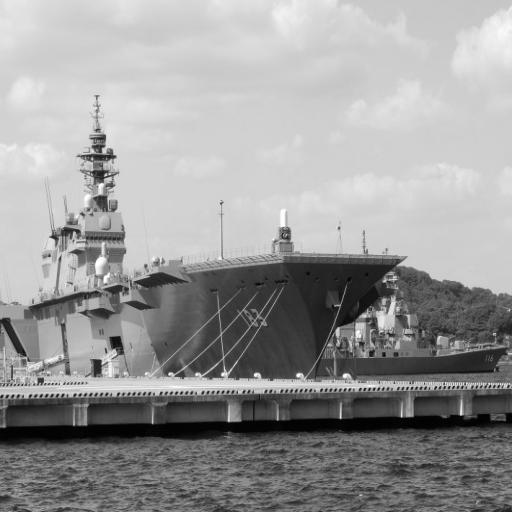Portanaves: (1, 87, 409, 397)
